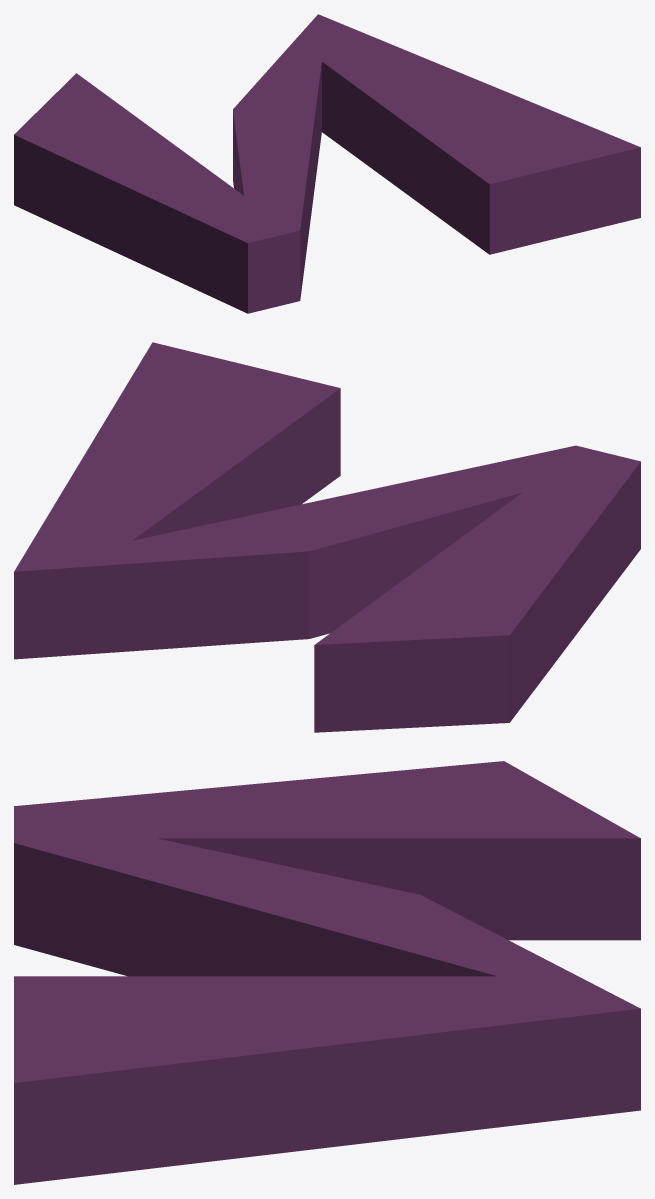
Rendered from Rune_Prop_1_Model.fbx.
3 views of the same model, one above another, from view 1: azimuth 30°, elevation 25°; view 2: azimuth 150°, elevation 25°; view 3: azimuth 270°, elevation 25° (orthographic). The views are drawn at different scales.
Visible parts, largest first — view 1: polySurface1; view 2: polySurface1; view 3: polySurface1.
Part boxes in pixels (x1,y1,x2,y2): polySurface1: (14,14,640,313); polySurface1: (14,342,640,732); polySurface1: (14,761,640,1184).
Bounding box in the file's own units: 0.7014 × 0.1034 × 0.577.
